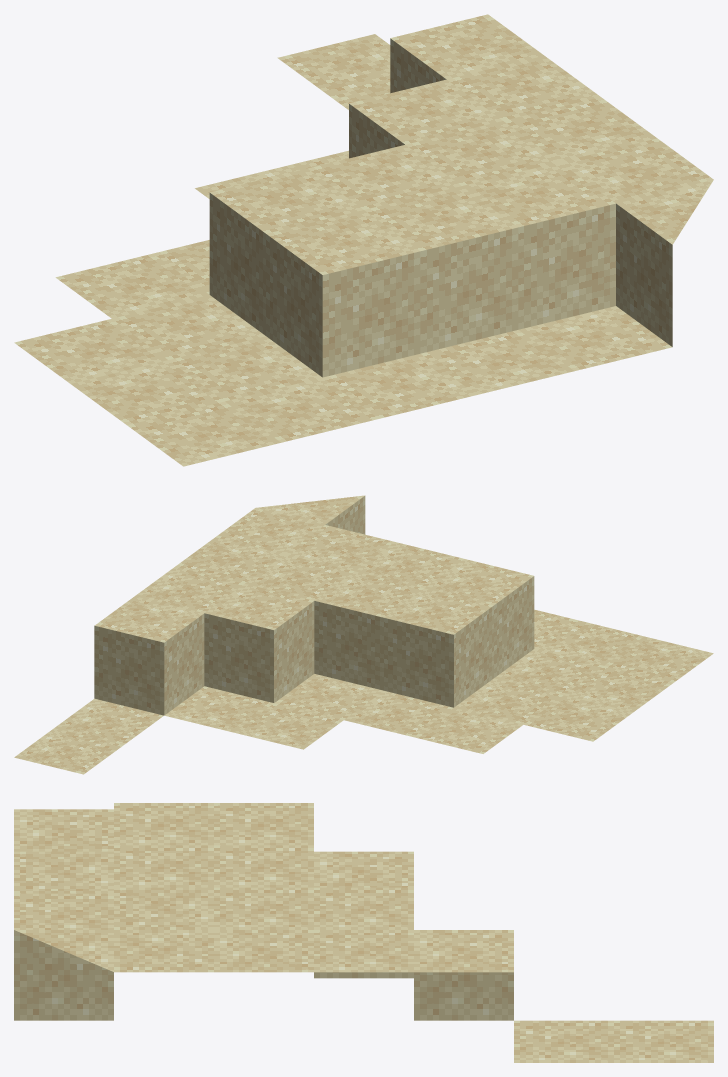
File: Sand_Chunk_59_6.fbx
The picture shows the model from 3 angles, top to bottom: view 1: azimuth 30°, elevation 25°; view 2: azimuth 150°, elevation 25°; view 3: azimuth 270°, elevation 25°; orthographic projection. The views are drawn at different scales.
Parts seen in each view (by area): view 1: Sand_Chunk_59_6; view 2: Sand_Chunk_59_6; view 3: Sand_Chunk_59_6.
Boxes of the visible parts, x1,y1,x2,y2 form: Sand_Chunk_59_6: [14, 14, 713, 466]; Sand_Chunk_59_6: [14, 495, 713, 774]; Sand_Chunk_59_6: [14, 803, 713, 1062].
Bounding box in the file's own units: 600 × 100 × 700.
Materials: 1 (1 with a texture image).
